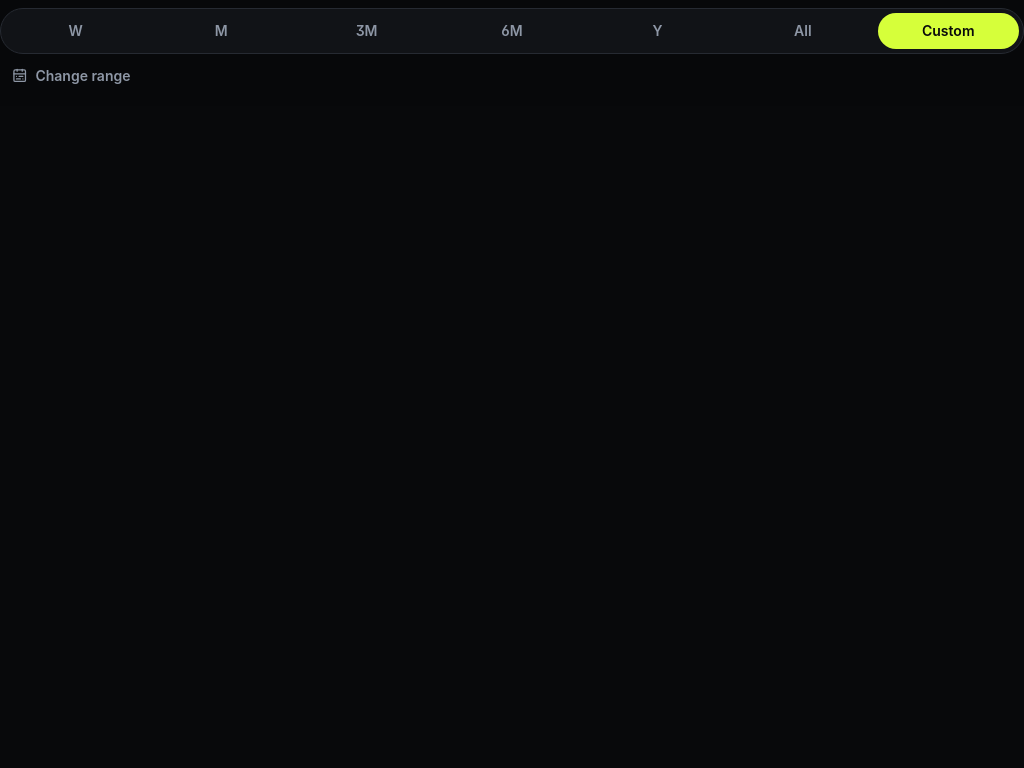
Test: period switcher › lets a custom range be edited (the active segment cannot be clicked again)
The image size is (1024, 768).
Click the button "Change range". click: (71, 76)
box: [0, 58, 142, 94]
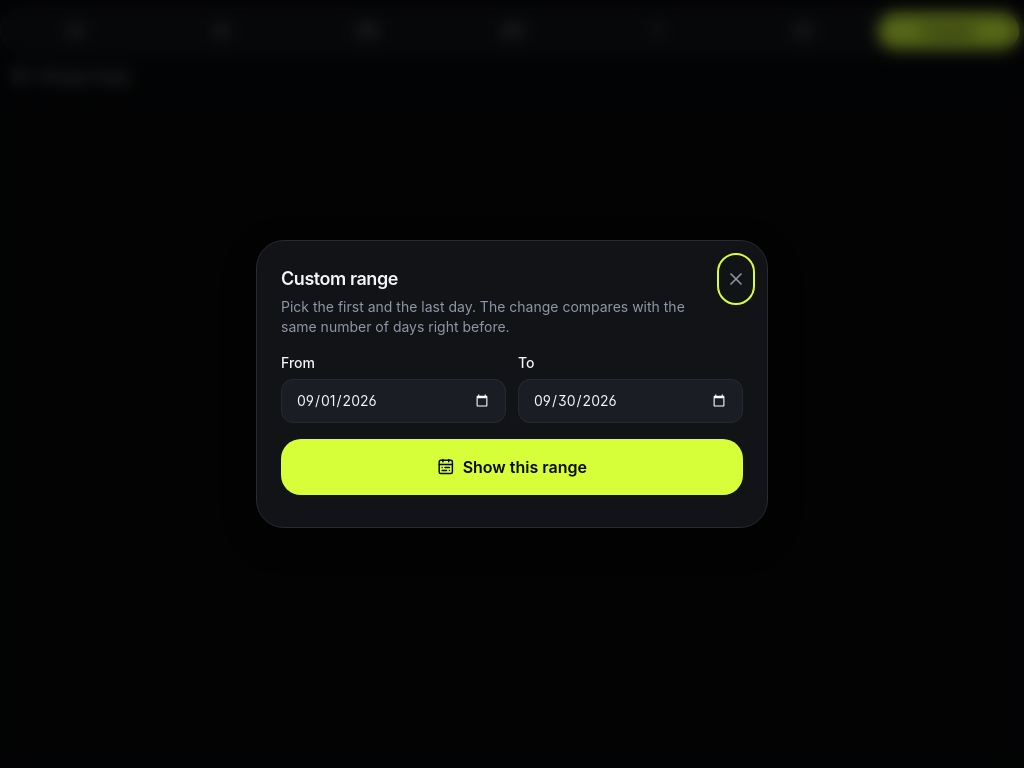
Expected: the date field labelled "From" holds "2026-09-01", [281, 379, 506, 423]
